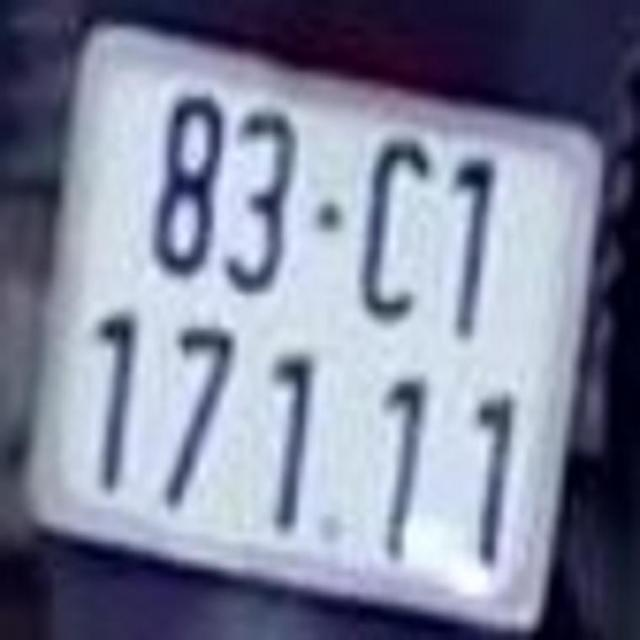1: (368, 371, 428, 567), (446, 153, 501, 338), (92, 316, 144, 492), (268, 346, 312, 533), (470, 380, 512, 570)
3: (230, 110, 293, 294)
7: (164, 315, 234, 520)
8: (161, 94, 217, 268)
C: (360, 130, 434, 329)
